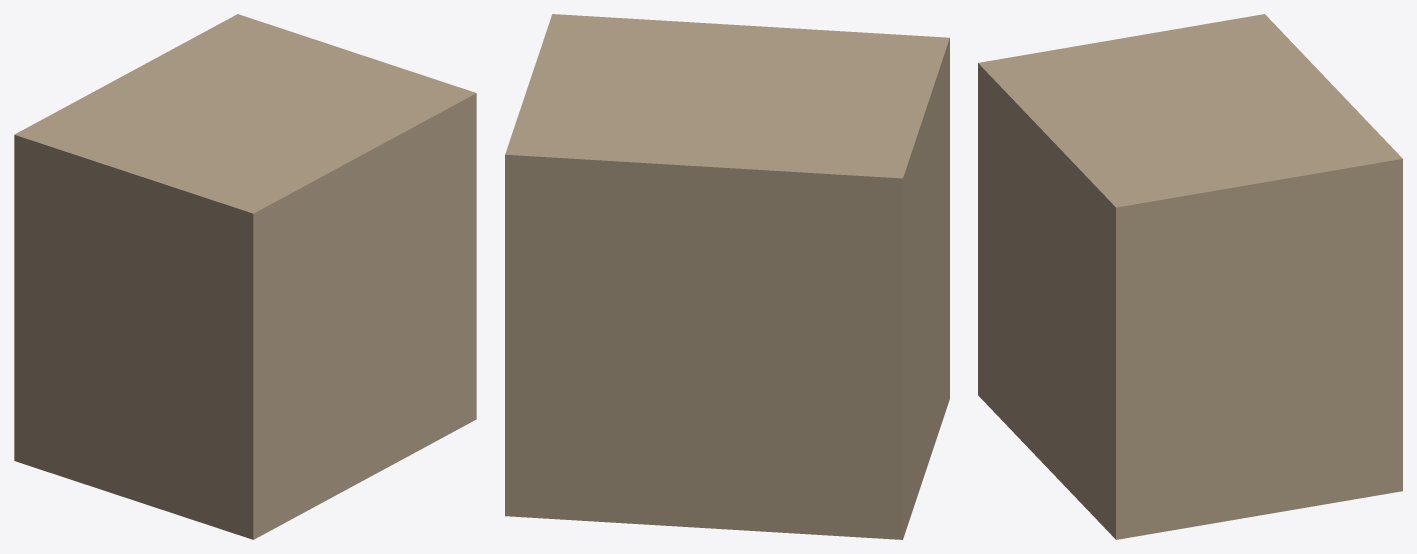
File: bld_101791653.dae
3 views of the same model, side by side, from view 1: azimuth 30°, elevation 25°; view 2: azimuth 150°, elevation 25°; view 3: azimuth 270°, elevation 25° (orthographic). The views are drawn at different scales.
Parts seen in each view (by area): view 1: bld_101791653; view 2: bld_101791653; view 3: bld_101791653.
Boxes of the visible parts, <box> form: bld_101791653: <box>14,14,476,539</box>; bld_101791653: <box>505,14,949,539</box>; bld_101791653: <box>978,14,1402,539</box>.
Size of the model in its own units: 9.99 by 9.27 by 8.
